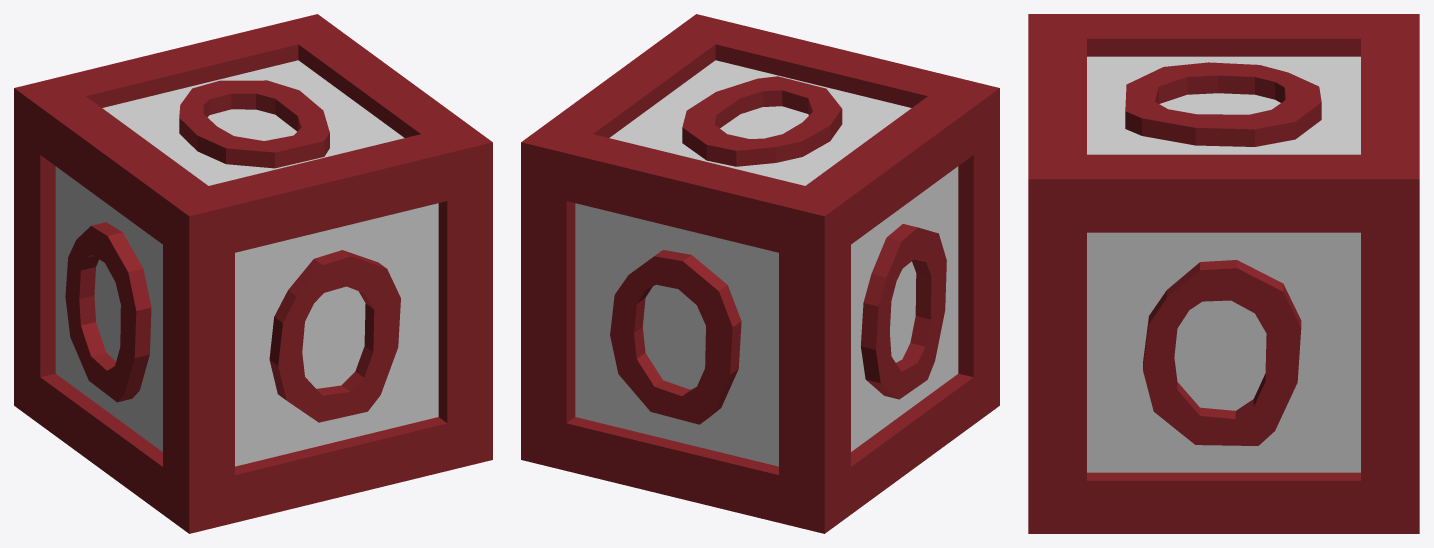
Rendered from Block_O.fbx.
The picture shows the model from 3 angles, left to right: view 1: azimuth 30°, elevation 25°; view 2: azimuth 150°, elevation 25°; view 3: azimuth 270°, elevation 25°; orthographic projection. The views are drawn at different scales.
Parts seen in each view (by area): view 1: Block_O; view 2: Block_O; view 3: Block_O.
Boxes of the visible parts, <box> form: Block_O: <box>14,14,492,533</box>; Block_O: <box>521,14,999,533</box>; Block_O: <box>1028,14,1419,533</box>.
Bounding box in the file's own units: 10 × 10 × 10.
